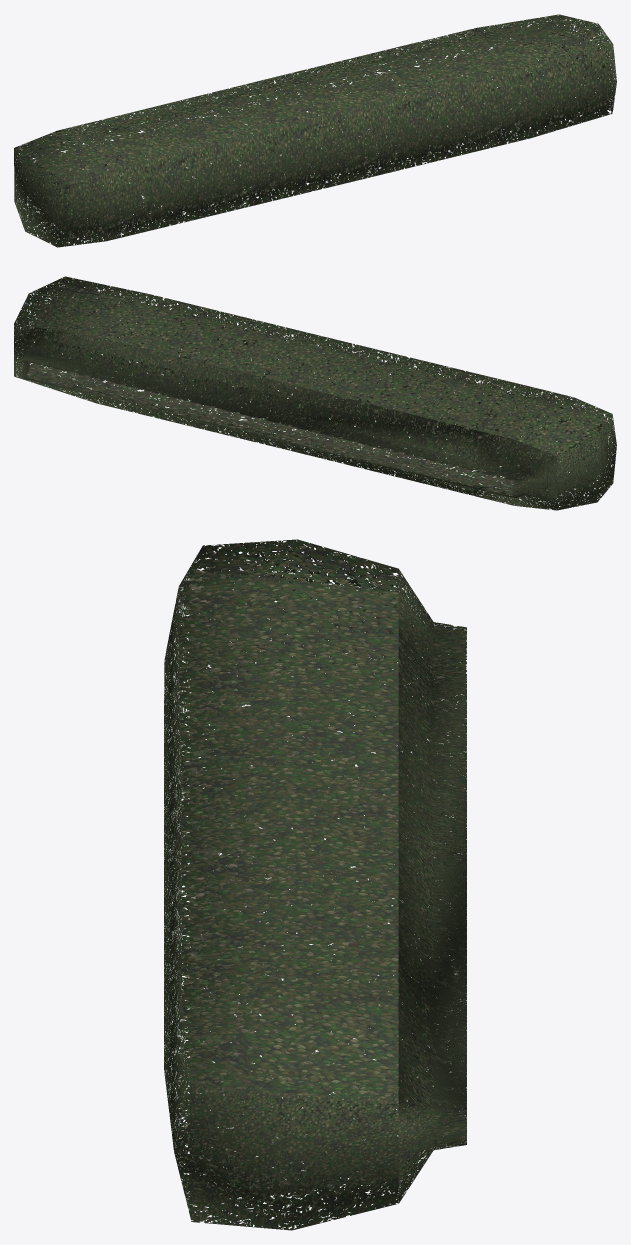
Rendered from nt_2020_foliage_hedge_boxy_3_set_LOD2.obj.
3 renders of one model, top to bottom at view 1: azimuth 30°, elevation 25°; view 2: azimuth 150°, elevation 25°; view 3: azimuth 270°, elevation 25°, orthographic. The views are drawn at different scales.
Visible parts, largest first — view 1: mtl_p6_foliage_hedge2, mtl_p6_foliage_hedge_no_alpha; view 2: mtl_p6_foliage_hedge2, mtl_p6_foliage_hedge_no_alpha; view 3: mtl_p6_foliage_hedge2, mtl_p6_foliage_hedge_no_alpha.
Part boxes in pixels (<box>): mtl_p6_foliage_hedge2: <box>14,14,616,247</box>; mtl_p6_foliage_hedge_no_alpha: <box>23,25,608,239</box>; mtl_p6_foliage_hedge2: <box>14,276,616,510</box>; mtl_p6_foliage_hedge_no_alpha: <box>23,285,606,499</box>; mtl_p6_foliage_hedge2: <box>164,539,466,1230</box>; mtl_p6_foliage_hedge_no_alpha: <box>189,569,465,1202</box>.
Bounding box in the file's own units: 1028 × 133 × 236.
